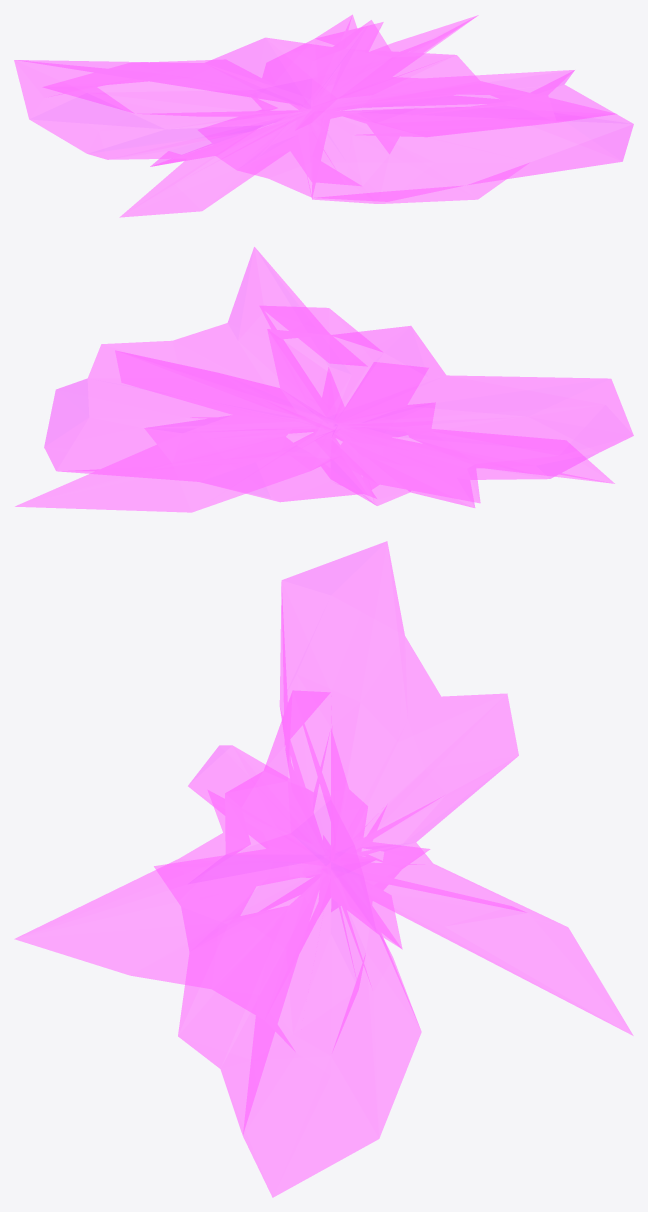
The model's file is nebula.glb.
The picture shows the model from 3 angles, top to bottom: view 1: azimuth 30°, elevation 25°; view 2: azimuth 150°, elevation 25°; view 3: azimuth 270°, elevation 25°; orthographic projection. The views are drawn at different scales.
Parts seen in each view (by area): view 1: ENV_NEBULA_01; view 2: ENV_NEBULA_01; view 3: ENV_NEBULA_01.
Boxes of the visible parts, x1=… form: ENV_NEBULA_01: x1=14, y1=14, x2=633, y2=217; ENV_NEBULA_01: x1=15, y1=247, x2=633, y2=512; ENV_NEBULA_01: x1=14, y1=541, x2=633, y2=1197.
Bounding box in the file's own units: 152 × 53.09 × 105.
